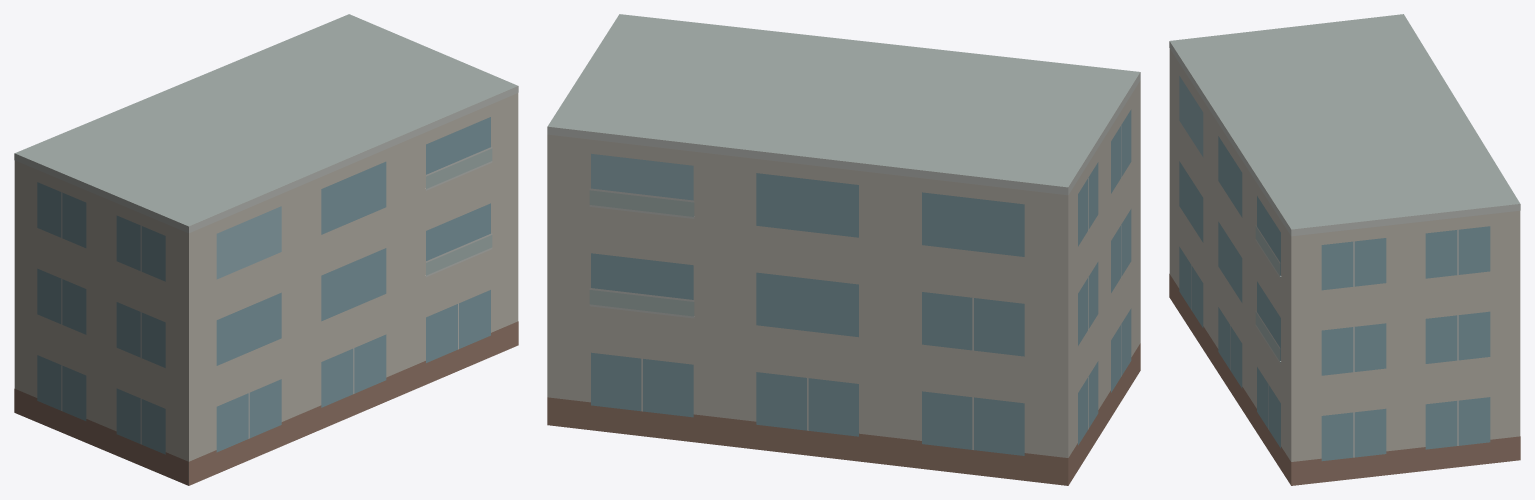
File: survey-upis-32721292.glb
3 views of the same model, side by side, from view 1: azimuth 30°, elevation 25°; view 2: azimuth 150°, elevation 25°; view 3: azimuth 270°, elevation 25° (orthographic). The views are drawn at different scales.
Visible parts, largest first — view 1: survey-upis-32721292.tmp; view 2: survey-upis-32721292.tmp; view 3: survey-upis-32721292.tmp.
Part boxes in pixels (x1=…): survey-upis-32721292.tmp: x1=14, y1=14, x2=518, y2=485; survey-upis-32721292.tmp: x1=547, y1=14, x2=1140, y2=485; survey-upis-32721292.tmp: x1=1169, y1=14, x2=1520, y2=485.
Bounding box in the file's own units: 16.51 × 9.15 × 11.37.
